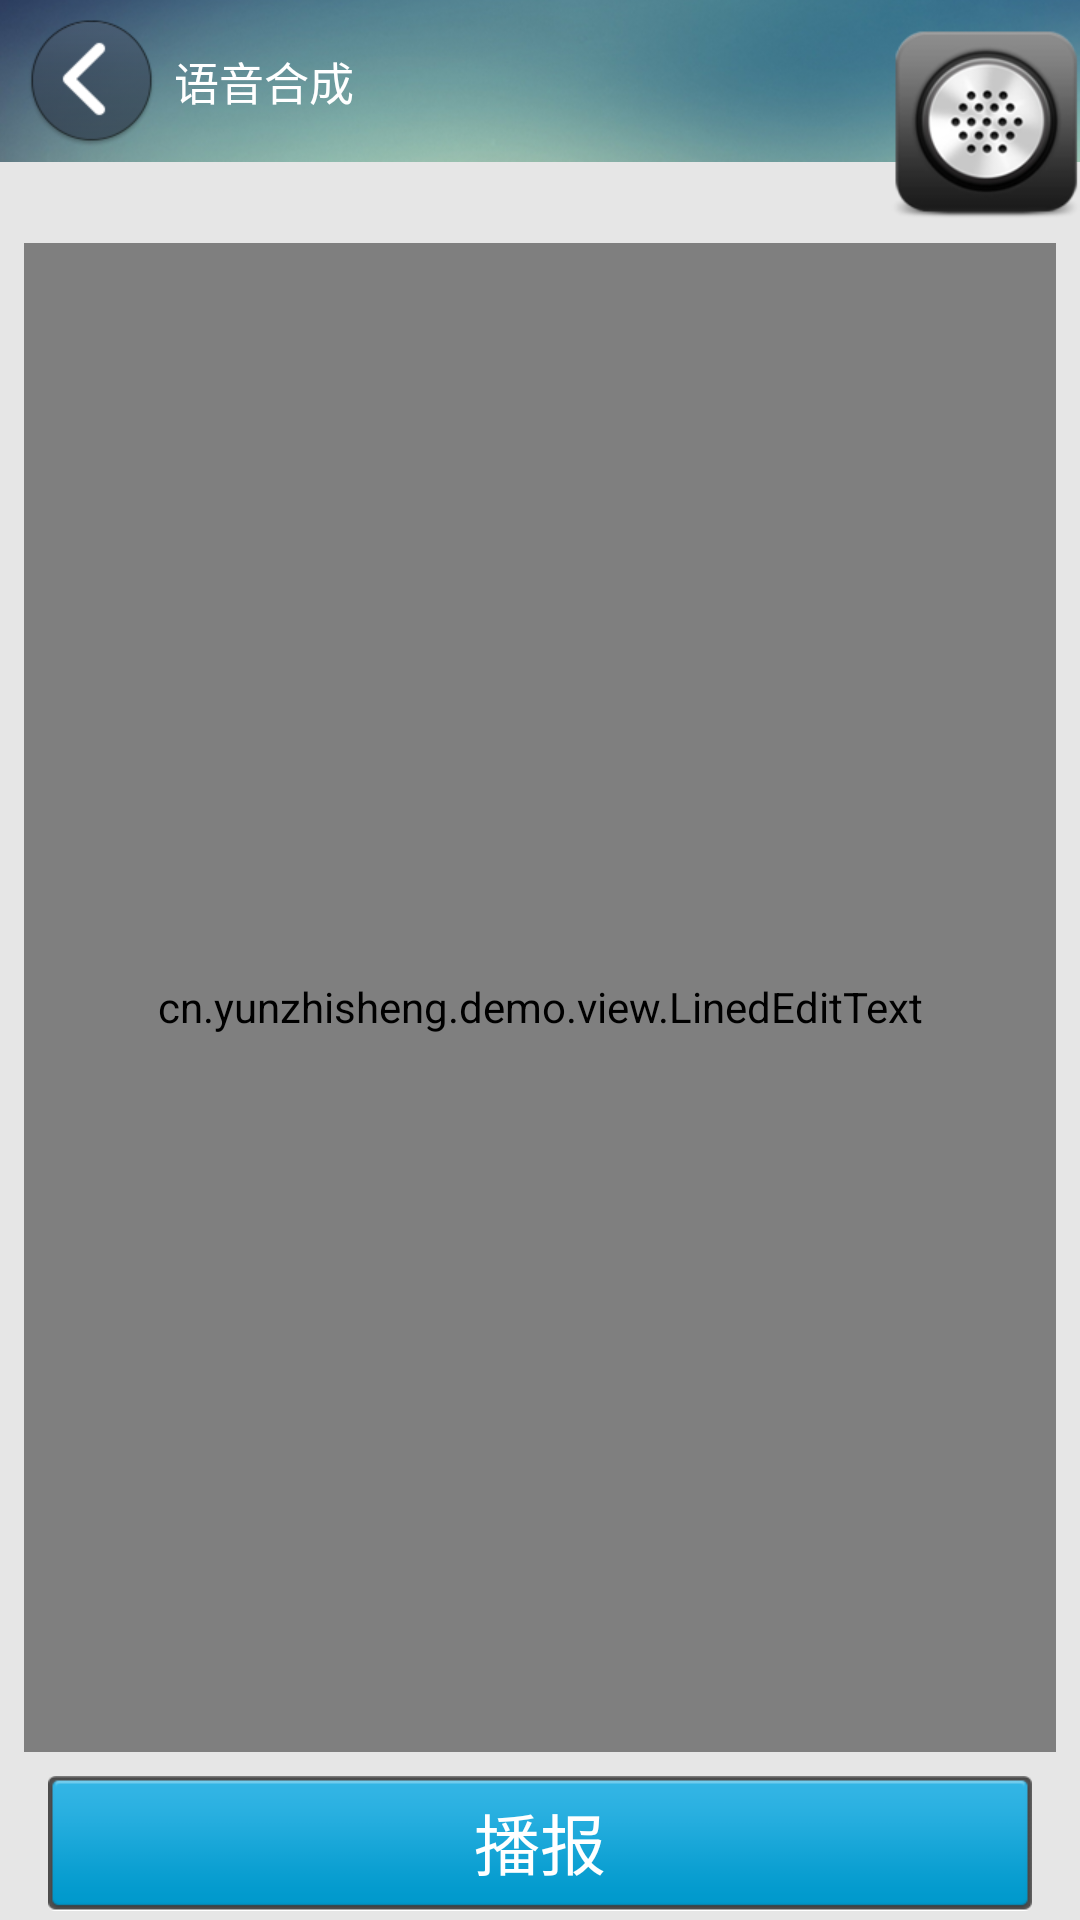

Icon click points for this 1080px x 1920px phone screenshot, format (x=x, y=y):
back: (x=91, y=80)
